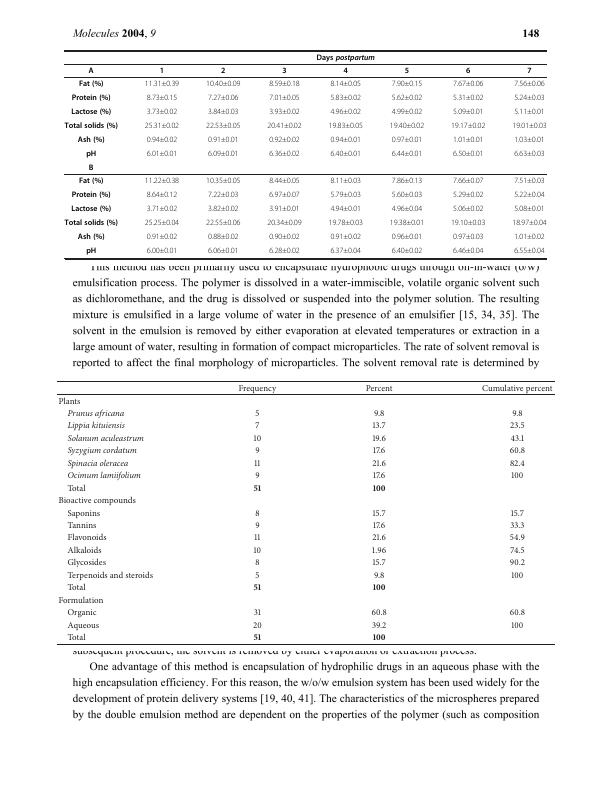borderless: (55, 379, 555, 644), (64, 49, 546, 258)
cell: (66, 570, 154, 581), (57, 495, 137, 506), (66, 433, 145, 444), (66, 470, 142, 481), (481, 383, 554, 394), (66, 446, 138, 456), (66, 458, 129, 469), (66, 408, 125, 419), (66, 421, 126, 431), (64, 121, 119, 131), (64, 218, 119, 228), (316, 53, 376, 62), (57, 595, 104, 606), (238, 383, 277, 394), (66, 533, 108, 543), (70, 107, 112, 117), (70, 204, 112, 214), (66, 558, 107, 568), (66, 545, 103, 556), (71, 93, 111, 103), (71, 190, 111, 200), (66, 620, 100, 631), (66, 607, 98, 618), (66, 508, 101, 518), (66, 520, 97, 531), (365, 383, 394, 394), (77, 135, 105, 145), (77, 232, 105, 242), (78, 79, 104, 89), (78, 176, 104, 186), (144, 80, 180, 87), (205, 80, 241, 87), (144, 122, 180, 129), (205, 122, 241, 129), (266, 122, 302, 129), (328, 122, 364, 129), (389, 122, 425, 129), (450, 122, 486, 129), (511, 122, 547, 129), (144, 177, 180, 184), (205, 177, 241, 184), (144, 219, 180, 226), (205, 219, 241, 226), (266, 219, 302, 226), (328, 219, 364, 226), (389, 219, 425, 226), (450, 219, 486, 226), (511, 219, 547, 226), (57, 396, 81, 406), (66, 483, 87, 494), (66, 632, 87, 643), (268, 80, 301, 87), (329, 80, 362, 87), (513, 80, 546, 87), (268, 94, 301, 101), (329, 94, 362, 101), (513, 94, 546, 101), (268, 108, 301, 115), (329, 108, 362, 115), (513, 108, 546, 115), (268, 136, 301, 143), (329, 136, 362, 143), (513, 136, 546, 143), (268, 150, 301, 157), (329, 150, 362, 157), (513, 150, 546, 157), (268, 177, 301, 184), (329, 177, 362, 184), (513, 177, 546, 184), (268, 191, 301, 198), (329, 191, 362, 198), (513, 191, 546, 198), (268, 205, 301, 212), (329, 205, 362, 212), (513, 205, 546, 212), (268, 233, 301, 240), (329, 233, 362, 240), (513, 233, 546, 240), (268, 247, 301, 254), (329, 247, 362, 254), (513, 247, 546, 254), (391, 80, 423, 87), (452, 80, 484, 87), (146, 94, 178, 101), (207, 94, 239, 101), (391, 94, 423, 101), (452, 94, 484, 101), (146, 108, 178, 115), (207, 108, 239, 115), (391, 108, 423, 115), (452, 108, 484, 115), (146, 136, 178, 143), (207, 136, 239, 143), (391, 136, 423, 143), (452, 136, 484, 143), (146, 150, 178, 157), (207, 150, 239, 157), (391, 150, 423, 157), (452, 150, 484, 157), (391, 177, 423, 184), (452, 177, 484, 184), (146, 191, 178, 198), (207, 191, 239, 198), (391, 191, 423, 198), (452, 191, 484, 198), (146, 205, 178, 212), (207, 205, 239, 212), (391, 205, 423, 212), (452, 205, 484, 212), (146, 233, 178, 240), (207, 233, 239, 240), (391, 233, 423, 240), (452, 233, 484, 240), (146, 247, 178, 254), (207, 247, 239, 254), (391, 247, 423, 254), (452, 247, 484, 254), (66, 583, 87, 593), (509, 458, 526, 469), (509, 545, 526, 556), (371, 607, 388, 618), (509, 607, 526, 618), (371, 433, 387, 444), (371, 458, 387, 469), (509, 520, 525, 531), (371, 545, 387, 556), (371, 620, 387, 631), (509, 421, 526, 431), (509, 446, 526, 456), (509, 533, 526, 543), (509, 558, 526, 568), (510, 433, 525, 444), (371, 533, 387, 543), (372, 470, 386, 481), (510, 470, 524, 481), (372, 520, 386, 531), (510, 570, 524, 581), (510, 620, 524, 631), (372, 421, 387, 431), (372, 508, 387, 518), (510, 508, 525, 518), (372, 558, 387, 568), (511, 408, 524, 419), (372, 446, 386, 456), (372, 632, 387, 641), (373, 408, 385, 419), (373, 570, 385, 581), (252, 620, 263, 631), (372, 483, 387, 491), (372, 583, 387, 591), (85, 149, 97, 159), (85, 246, 97, 256), (253, 433, 262, 444), (253, 545, 262, 556), (253, 607, 262, 618), (253, 458, 261, 469), (253, 632, 262, 641), (253, 533, 261, 543), (254, 470, 261, 481), (254, 520, 261, 531), (253, 483, 262, 491), (253, 583, 262, 591), (254, 446, 261, 456), (254, 508, 261, 518), (254, 558, 261, 568), (88, 66, 95, 76), (342, 66, 349, 76), (254, 408, 260, 419), (254, 570, 260, 581), (254, 421, 260, 431), (159, 66, 165, 76), (220, 66, 226, 76), (281, 66, 287, 76), (404, 66, 410, 76), (465, 66, 471, 76), (526, 66, 532, 76), (88, 163, 94, 173)
